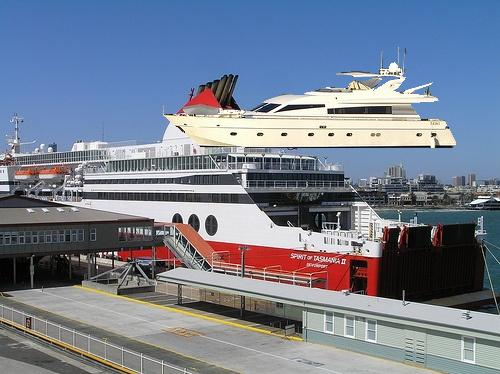tampered: (164, 48, 456, 148)
